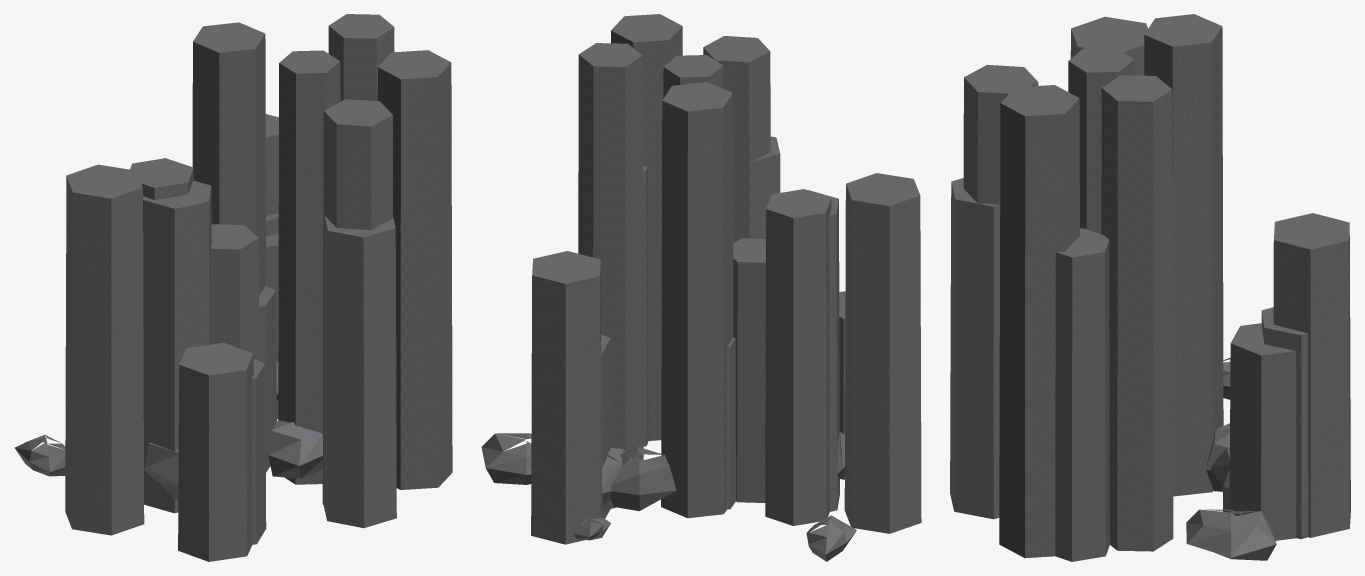
Rendered from volcano-and-lava-fields-volcano-and-lava-fields-basalt-b8c7b3cc__37456.glb.
3 views of the same model, side by side, from view 1: azimuth 30°, elevation 25°; view 2: azimuth 150°, elevation 25°; view 3: azimuth 270°, elevation 25° (orthographic). The views are drawn at different scales.
Visible parts, largest first — view 1: volcano-and-lava-fields-basalt-column-cluster; view 2: volcano-and-lava-fields-basalt-column-cluster; view 3: volcano-and-lava-fields-basalt-column-cluster.
Boxes of the visible parts, left/top/right/bottom form: volcano-and-lava-fields-basalt-column-cluster: left=14, top=14, right=452, bottom=561; volcano-and-lava-fields-basalt-column-cluster: left=481, top=14, right=921, bottom=561; volcano-and-lava-fields-basalt-column-cluster: left=950, top=14, right=1350, bottom=561.
Bounding box in the file's own units: 2.67 × 2.7 × 2.19.
Materials: 1 (1 with a texture image).
